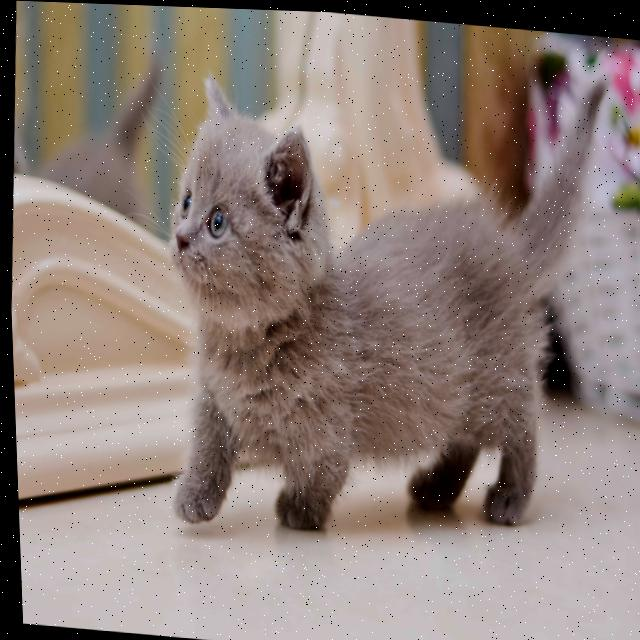Munchkin: (139, 38, 627, 563)
